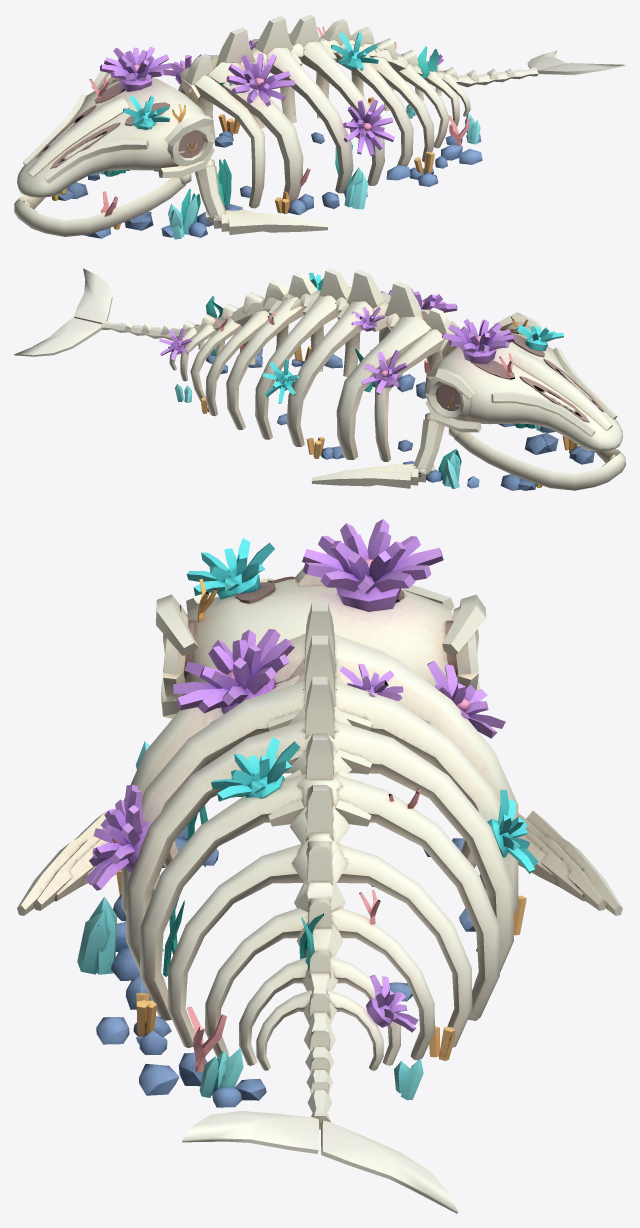
Rendered from MB_LM_WhaleSkeleton_v2.fbx.
3 views of the same model, one above another, from view 1: azimuth 30°, elevation 25°; view 2: azimuth 150°, elevation 25°; view 3: azimuth 270°, elevation 25° (orthographic). The views are drawn at different scales.
Parts seen in each view (by area): view 1: Bones, Anemones, Rocks, Corals, Crystals, Kelp; view 2: Bones, Anemones, Rocks, Corals, Crystals, Kelp; view 3: Bones, Anemones, Rocks, Crystals, Corals, Kelp.
Boxes of the visible parts, bbox=[...] form: Bones: bbox=[14, 14, 625, 236]; Anemones: bbox=[100, 32, 443, 155]; Rocks: bbox=[58, 131, 482, 238]; Corals: bbox=[52, 26, 469, 229]; Crystals: bbox=[99, 104, 480, 239]; Kelp: bbox=[112, 46, 439, 224]; Bones: bbox=[14, 268, 625, 490]; Anemones: bbox=[159, 272, 563, 403]; Rocks: bbox=[206, 348, 594, 490]; Corals: bbox=[201, 310, 577, 487]; Crystals: bbox=[175, 346, 544, 488]; Kelp: bbox=[206, 296, 533, 480]; Bones: bbox=[17, 567, 622, 1213]; Anemones: bbox=[85, 519, 538, 1032]; Rocks: bbox=[96, 796, 475, 1107]; Crystals: bbox=[77, 741, 423, 1100]; Corals: bbox=[116, 578, 526, 1072]; Kelp: bbox=[163, 805, 323, 976].
Bounding box in the file's own units: 20145 × 5193 × 9212.
Materials: 1 (1 with a texture image).
